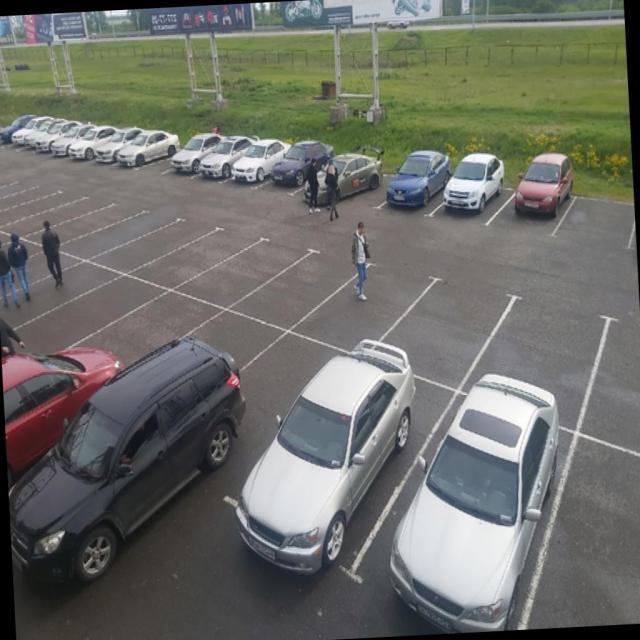space-empty: (463, 304, 608, 419), (382, 272, 512, 382), (311, 248, 436, 354), (97, 214, 243, 292), (30, 265, 146, 358), (145, 220, 268, 306), (253, 242, 363, 337), (0, 248, 101, 344), (195, 234, 308, 319), (69, 204, 182, 282), (34, 200, 138, 258), (561, 195, 629, 264), (5, 196, 107, 241), (0, 229, 64, 300), (142, 133, 200, 179), (0, 193, 73, 228), (1, 186, 61, 219)
space-occupied: (360, 388, 576, 636), (244, 359, 439, 577), (178, 347, 334, 521), (117, 310, 265, 443), (95, 295, 206, 388), (380, 151, 459, 232), (487, 174, 580, 241), (435, 164, 520, 230), (333, 165, 399, 228), (297, 160, 375, 209), (162, 130, 227, 186), (193, 139, 259, 187), (228, 140, 288, 191), (8, 108, 61, 163), (31, 114, 82, 169), (268, 153, 329, 198), (116, 132, 179, 174), (43, 124, 96, 172), (0, 104, 45, 157), (93, 127, 144, 172), (66, 128, 120, 167)
